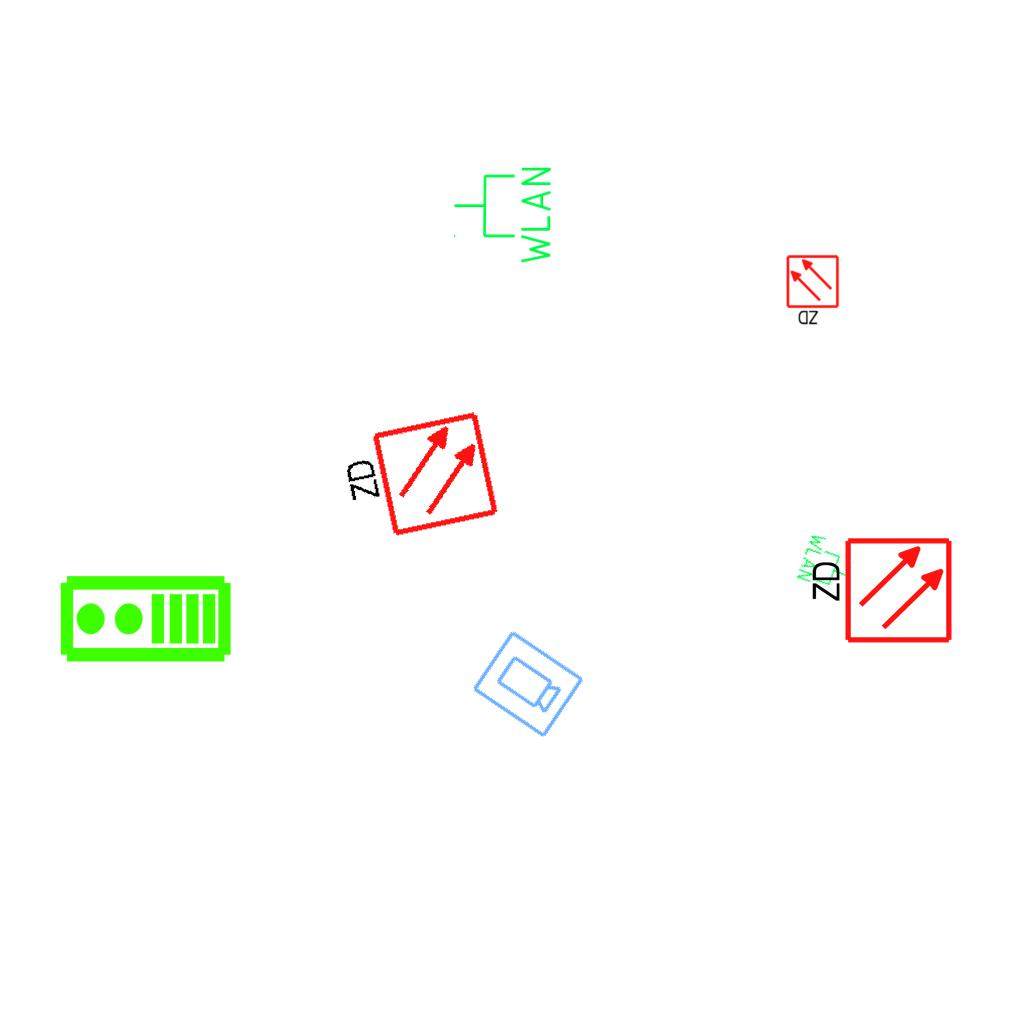Gegensprechanlage_mit_Video: (57, 573, 233, 668)
KFO_Kamera_mit_Festobjektiv: (468, 627, 587, 742)
WLAN: (451, 163, 555, 268), (793, 529, 861, 597)
ZD_Melder_in_Zwischendecke_mit_Revisionsoeffnung_mind_40_x_40_cm: (332, 408, 502, 551), (805, 535, 954, 649), (785, 254, 842, 328)
